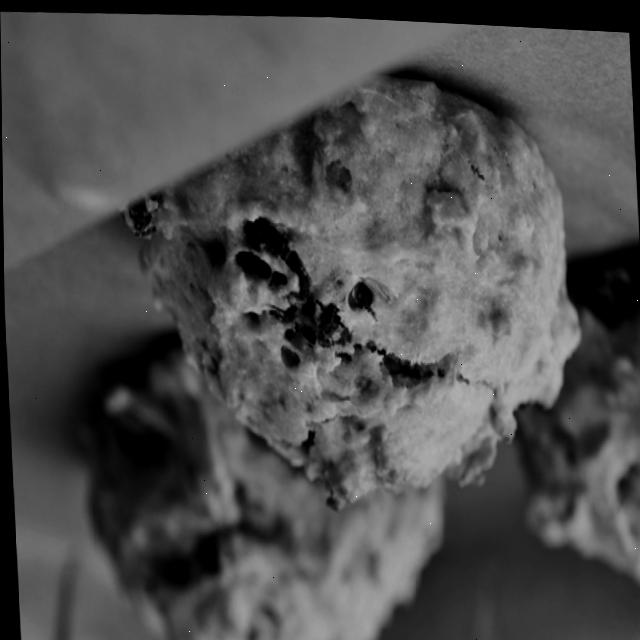面包点心: (6, 13, 640, 640)
